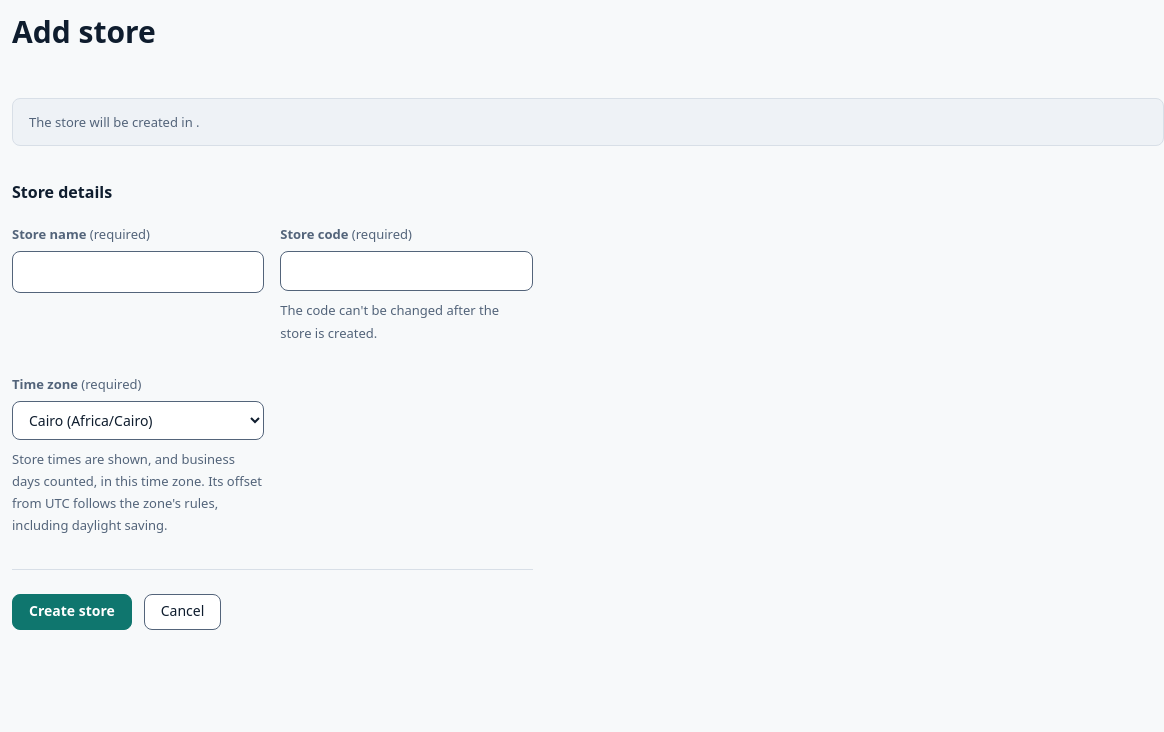
Test: StoreForm create: time zone › a store-code 409 is still the inline code conflict
This screenshot has width=1164, height=732.
Step 1. Click the button "Create store" → click(72, 612), box [12,594,132,630]
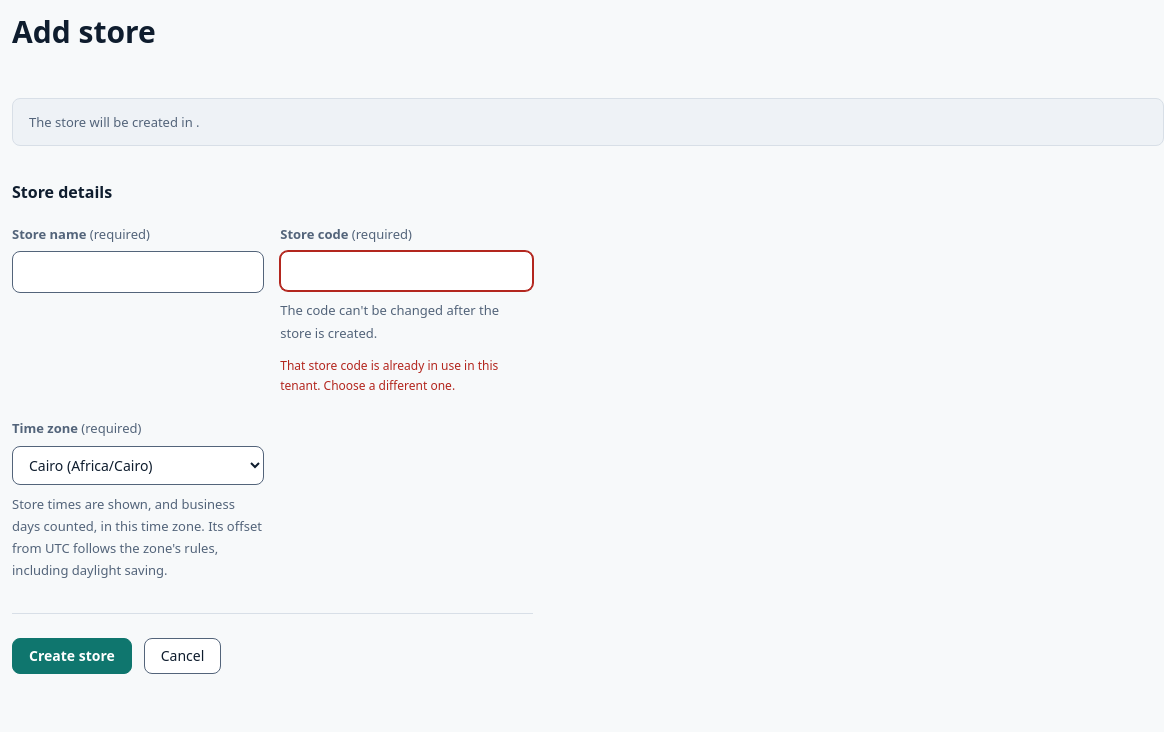
expect the text "That store code is already in use in this tenant. Choose a different one." is shown: met, box [280,356,533,396]
